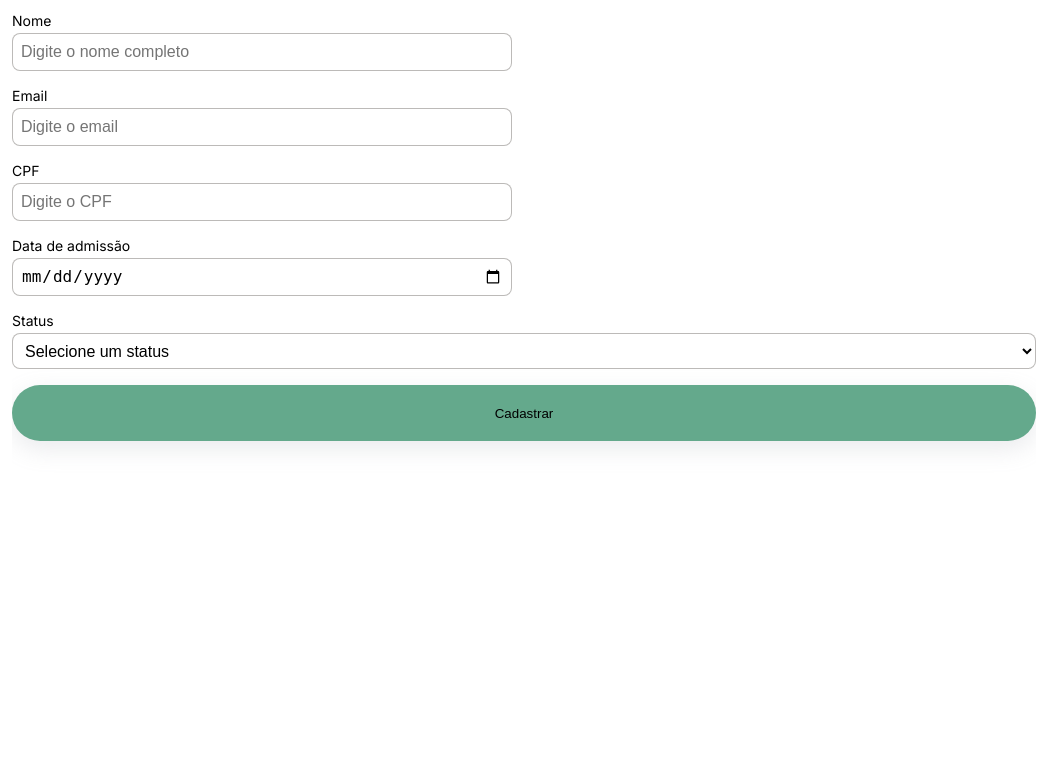
Test: FormUser Validations › should display validation errors when required fields are missing
Click the button with test id "submit-button" at (524, 413), box [12,385,1036,441]
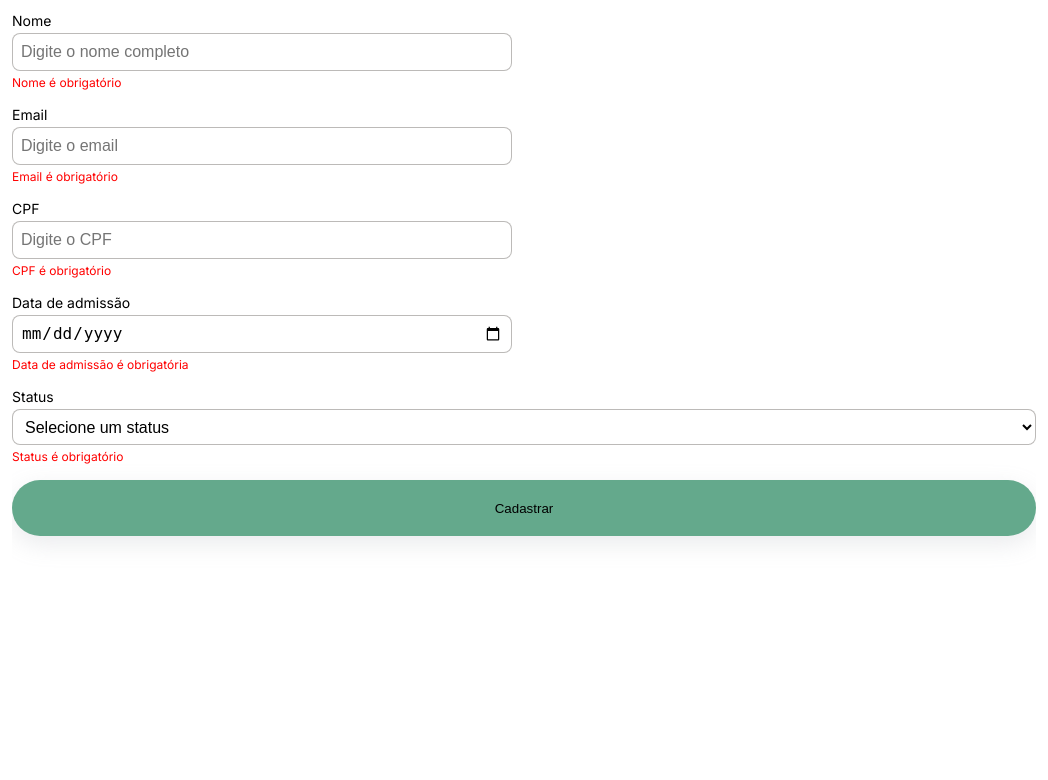
expect the text "Nome é obrigatório" is shown: met, box [12,75,121,90]
expect the text "Email é obrigatório" is shown: met, box [12,169,118,184]
expect the text "CPF é obrigatório" is shown: met, box [12,263,111,278]
